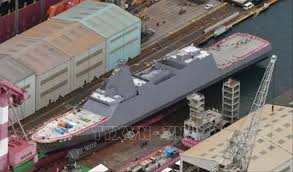tau_muctieu: (32, 40, 270, 145)
